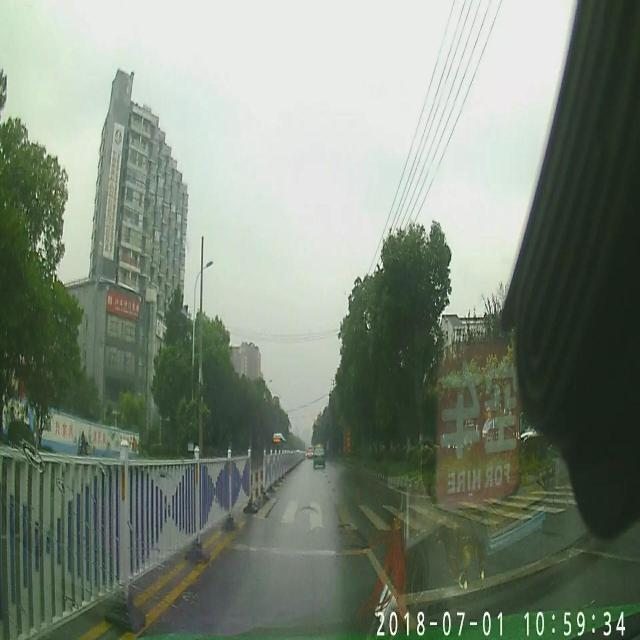car: (312, 443, 326, 466), (306, 447, 312, 454)
